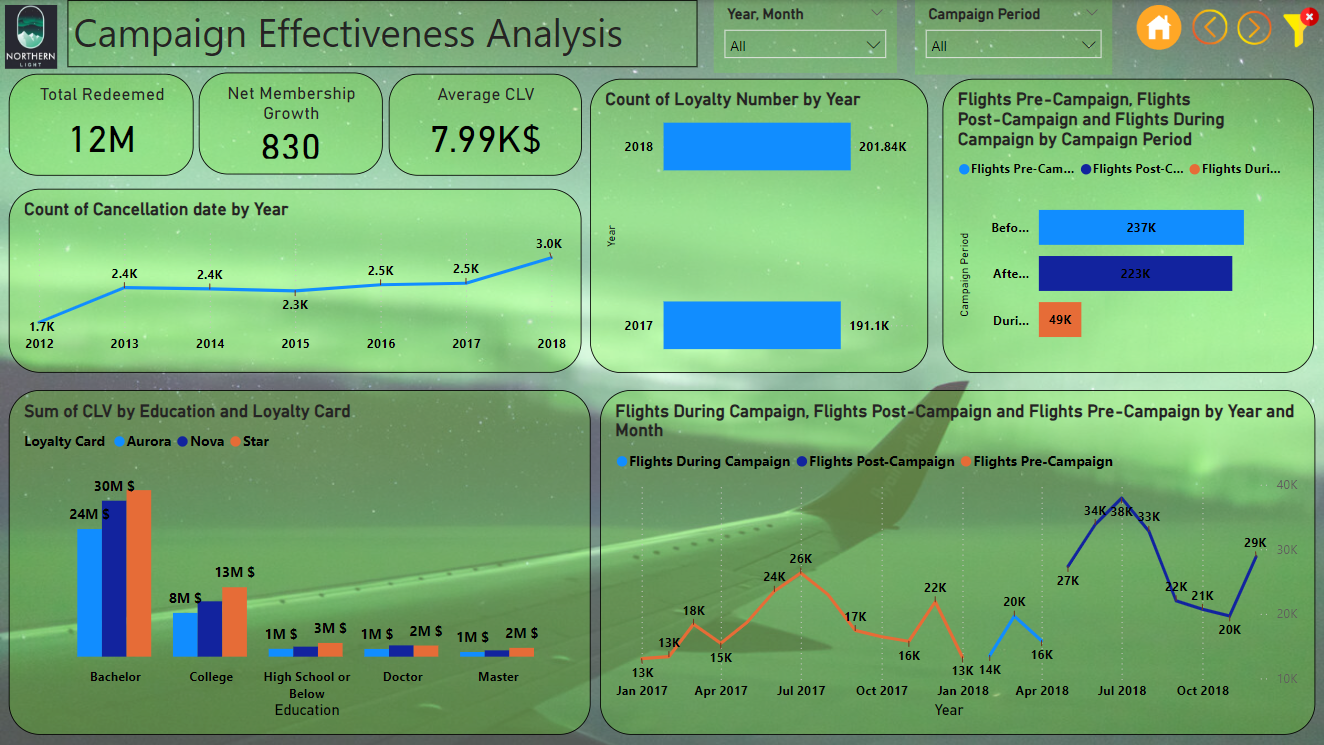

What the dashboard file says about the page in this screenshot:
{"tool":"powerbi","page":{"name":"Campaign Effectiveness Dashboard","canvas":[1280,720],"ordinal":3},"visuals":[{"type":"card","title":"Net Membership Growth","fields":{"Values":["Measure_Table.Net Membership Growth"]},"box":[191.2,70,177.5,98.8],"z":0},{"type":"barChart","fields":{"Y":["CountNonNull(Customer Flight Activity.Loyalty Number)"],"Category":["Calendar.Date.Variation.Date Hierarchy.Year","Calendar.Date.Variation.Date Hierarchy.Month"]},"box":[570,76.2,326.2,283.8],"z":1000},{"type":"slicer","fields":{"Values":["Customer Flight Activity.Campaign Period"]},"box":[883.3,0,190,71.7],"z":2000},{"type":"lineChart","fields":{"Category":["Calendar.Date.Variation.Date Hierarchy.Year","Calendar.Date.Variation.Date Hierarchy.Month"],"Y2":["Measure_Table.Flights During Campaign","Measure_Table.Flights Post-Campaign","Measure_Table.Flights Pre-Campaign"]},"box":[578.8,376.2,690,332.5],"z":3000},{"type":"barChart","fields":{"Y":["Measure_Table.Flights Pre-Campaign","Measure_Table.Flights Post-Campaign","Measure_Table.Flights During Campaign"],"Category":["Customer Flight Activity.Campaign Period"]},"box":[910,76.2,358.8,283.8],"z":4000},{"type":"image","box":[0,0,60.3,71.2],"z":5000},{"type":"textbox","box":[65.1,0,608,65.1],"z":6000},{"type":"slicer","fields":{"Values":["Calendar.Date.Variation.Date Hierarchy.Year","Calendar.Date.Variation.Date Hierarchy.Month"]},"box":[688.3,0,176.7,70],"z":7000},{"type":"lineChart","fields":{"Category":["Calendar.Year"],"Y":["CountNonNull(Customer Loyalty History.Cancellation date)"]},"box":[8.8,182.5,552.5,177.5],"z":8000},{"type":"card","title":"Total Redeemed","fields":{"Values":["Sum(Customer Flight Activity.Points Redeemed)"]},"box":[8.8,71.2,178.8,98.8],"z":9000},{"type":"clusteredColumnChart","fields":{"Category":["Customer Loyalty History.Education"],"Series":["Customer Loyalty History.Loyalty Card"],"Y":["Sum(Customer Loyalty History.CLV)"]},"box":[8.8,376.2,561.2,332.5],"z":10000},{"type":"card","title":"Average CLV","fields":{"Values":["Avg(Customer Loyalty History.CLV)"]},"box":[375,71.2,186.2,98.8],"z":11000},{"type":"image","box":[1094.2,0,59.1,53.1],"z":12000},{"type":"image","box":[1164.2,0,51.9,53.1],"z":13000},{"type":"image","box":[1224.5,0,55.5,53.1],"z":14000}]}

Visuals, with their boxes in screenshot pixels (x1, y1, x2, y2), scaled from the page's 1280x720 canvas onto the 1324x745 screenshot:
"Net Membership Growth" card: 198/72/381/175
barChart - CountNonNull(Customer Flight Activity.Loyalty Number) x Calendar.Date.Variation.Date Hierarchy.Year: 590/79/927/373
slicer - Customer Flight Activity.Campaign Period: 914/0/1110/74
lineChart - Calendar.Date.Variation.Date Hierarchy.Year x Calendar.Date.Variation.Date Hierarchy.Month: 599/389/1312/733
barChart - Measure_Table.Flights Pre-Campaign x Measure_Table.Flights Post-Campaign: 941/79/1312/373
image: 0/0/62/74
textbox: 67/0/696/67
slicer - Calendar.Date.Variation.Date Hierarchy.Year x Calendar.Date.Variation.Date Hierarchy.Month: 712/0/895/72
lineChart - Calendar.Year x CountNonNull(Customer Loyalty History.Cancellation date): 9/189/581/373
"Total Redeemed" card: 9/74/194/176
clusteredColumnChart - Customer Loyalty History.Education x Customer Loyalty History.Loyalty Card: 9/389/590/733
"Average CLV" card: 388/74/580/176
image: 1132/0/1193/55
image: 1204/0/1258/55
image: 1267/0/1323/55
